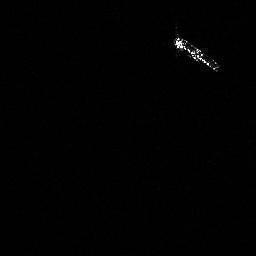ship: (171, 34, 222, 74)
